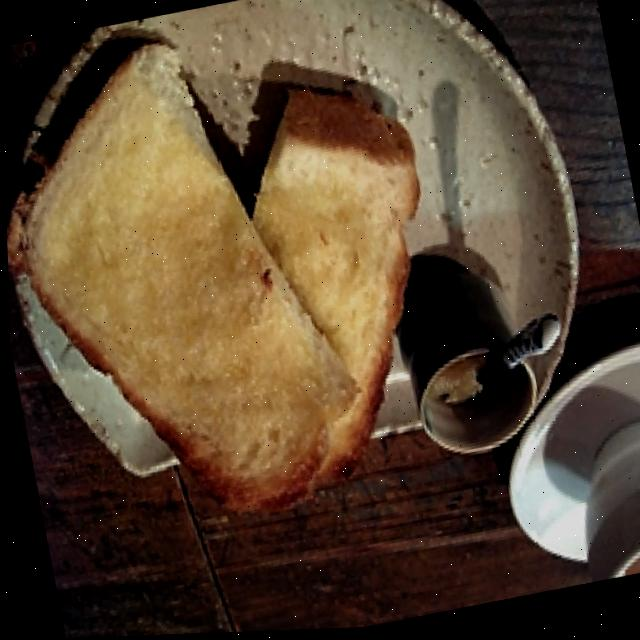面包点心: (0, 0, 461, 569)
